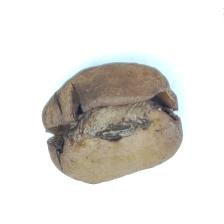NG: (50, 89, 178, 151)
